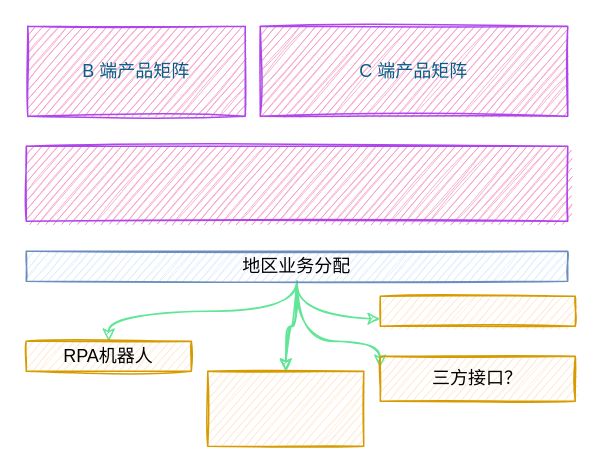
This 602x473 diagram has some shape labels left out. Here are the shapes that lost their labels. From the top down, the centre of each, then its label:
At point (296, 183): "个人对公业务管理平台".
At point (477, 310): "G 端接口".
At point (285, 408): "人力/机构委托代办？".
